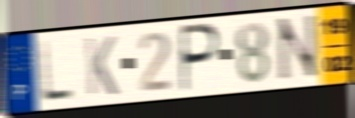2: (137, 30, 173, 94)
8: (233, 18, 272, 87)
K: (83, 34, 120, 98)
L: (37, 39, 76, 104)
N: (275, 12, 322, 85)
P: (179, 22, 223, 95)
